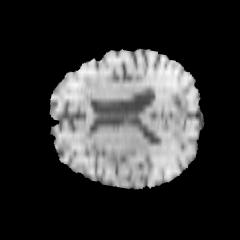glioma: (119, 142, 156, 174)
